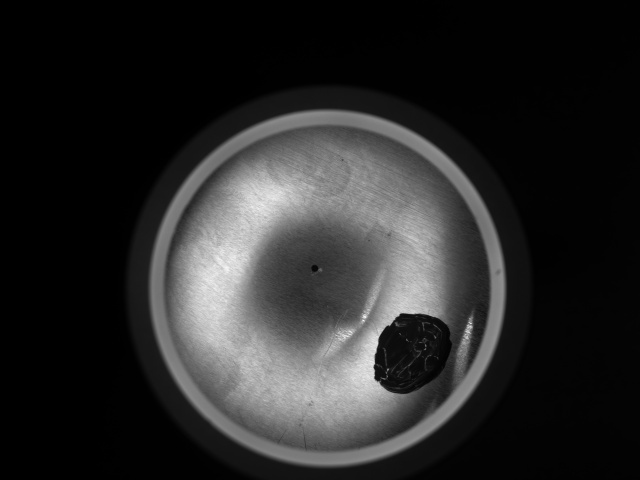zang_wu: (370, 310, 454, 395)
zhen_kong: (308, 262, 323, 277)
